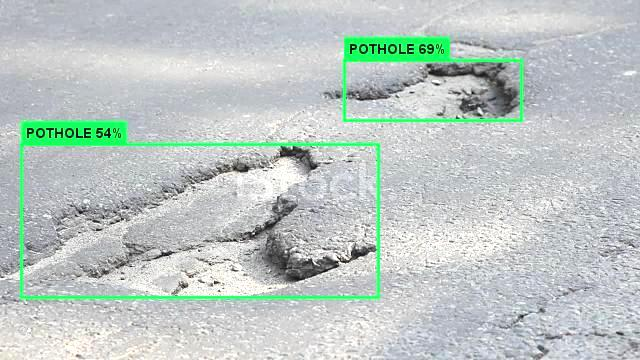POTHOLE: (179, 166, 435, 274)
